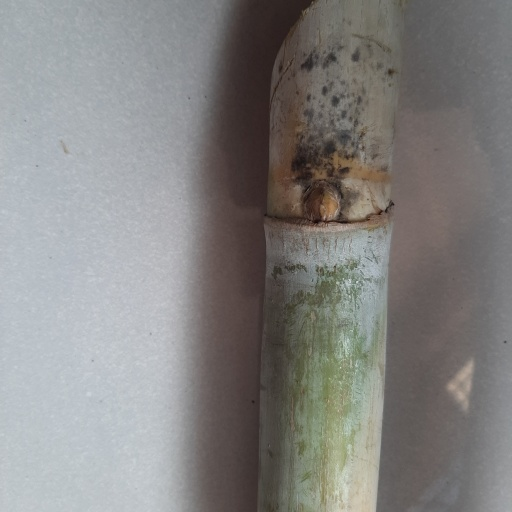Bud: (300, 181, 344, 221)
